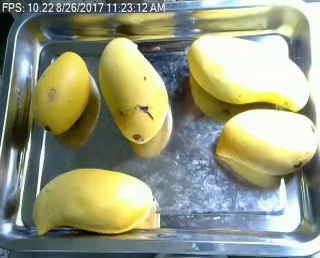Mango: (188, 33, 309, 112), (34, 168, 153, 237), (98, 39, 168, 141), (215, 109, 319, 175), (32, 50, 91, 134)
